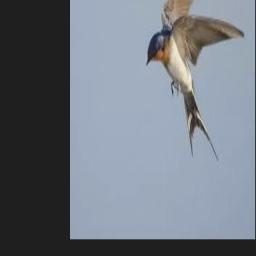Swallow: (147, 0, 245, 163)
